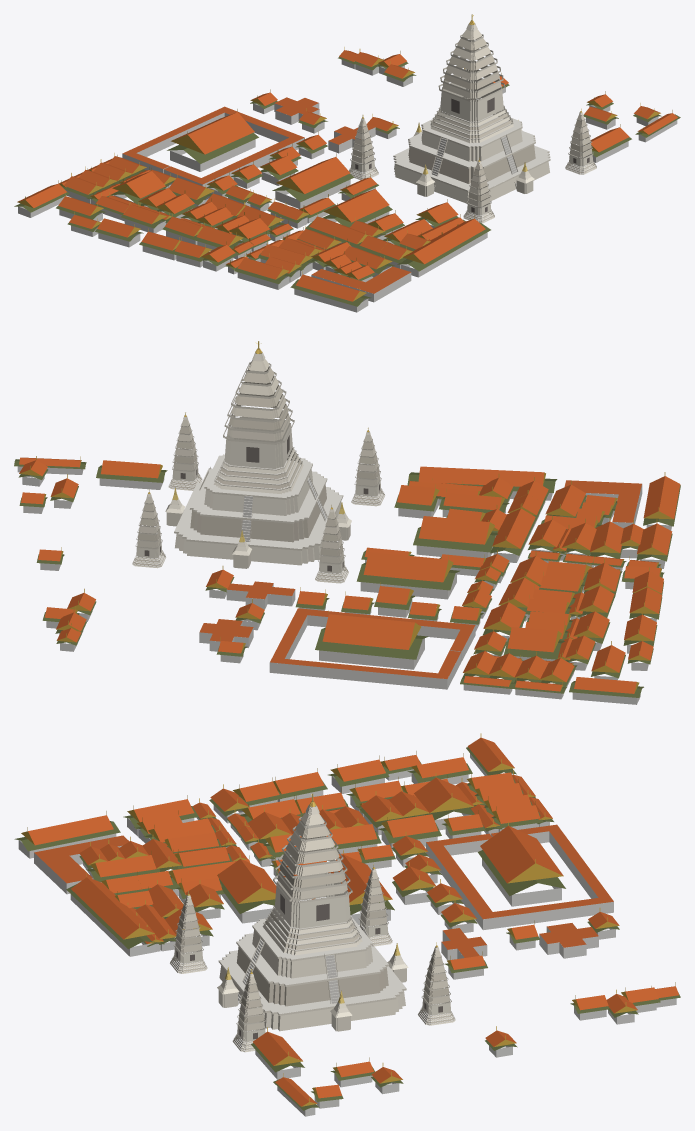
The model's file is watarun.glb.
3 views of the same model, one above another, from view 1: azimuth 30°, elevation 25°; view 2: azimuth 150°, elevation 25°; view 3: azimuth 270°, elevation 25° (orthographic). The views are drawn at different scales.
Parts seen in each view (by area): view 1: watarun; view 2: watarun; view 3: watarun.
Boxes of the visible parts, x1,y1,x2,y2 form: watarun: [14, 14, 680, 312]; watarun: [14, 341, 680, 704]; watarun: [14, 733, 680, 1116].
Bounding box in the file's own units: 301 × 76 × 232.
